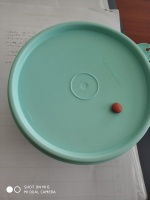Dolorex: (111, 102, 123, 114)
